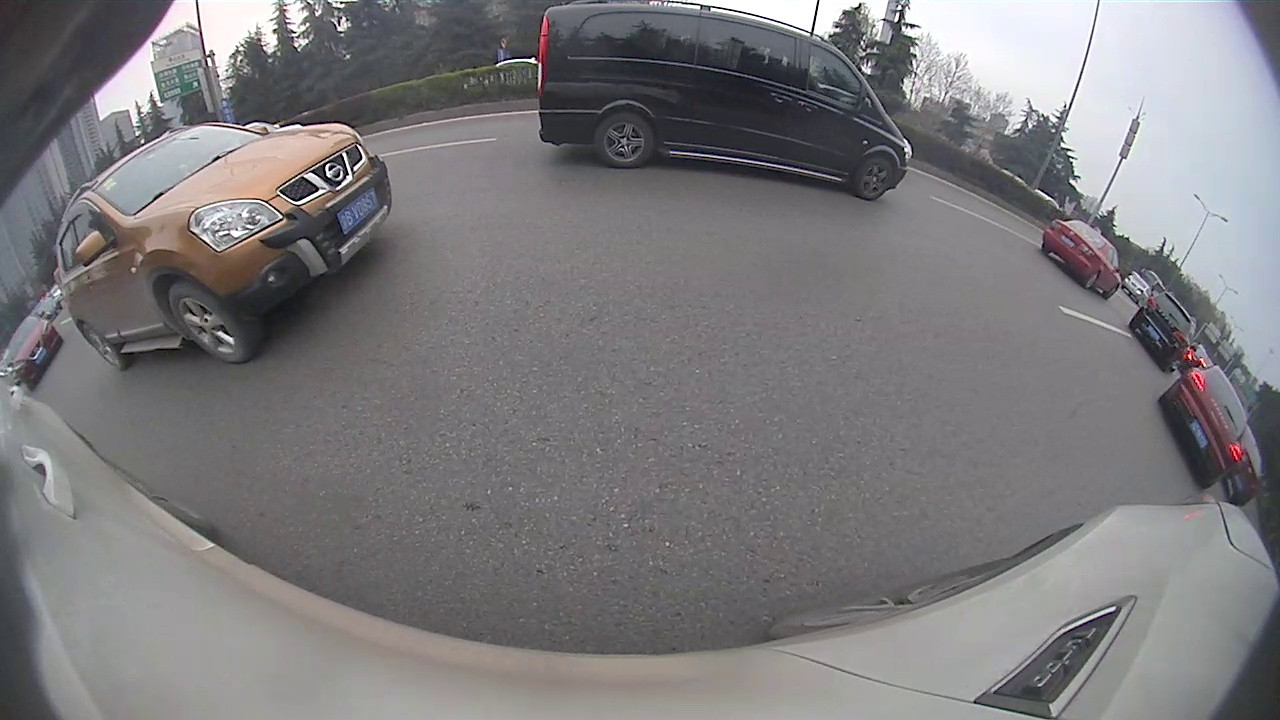car: (56, 121, 393, 373), (537, 6, 912, 202), (1155, 364, 1255, 491), (1045, 214, 1121, 301), (1130, 289, 1196, 371), (3, 319, 64, 392), (1125, 267, 1150, 306)
front: (166, 285, 251, 364), (852, 154, 898, 199)
rear: (593, 112, 654, 167), (78, 321, 124, 372), (1084, 269, 1100, 290)
